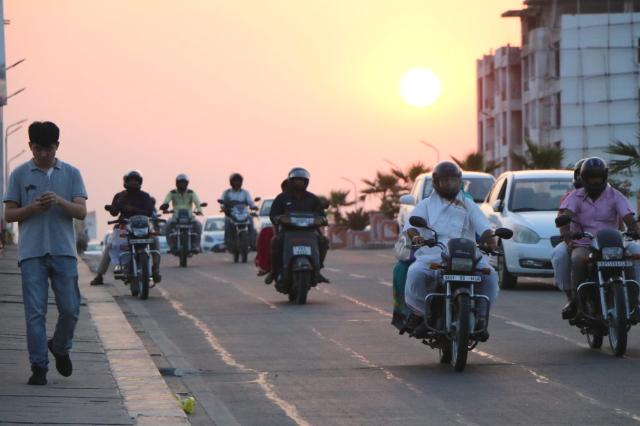licensePlate: (441, 271, 483, 283), (593, 261, 633, 271), (291, 245, 309, 257), (126, 239, 152, 247), (175, 224, 193, 231)
motorcycle: (385, 156, 507, 369), (552, 148, 638, 356), (256, 164, 339, 307), (88, 164, 153, 306), (214, 163, 251, 266), (162, 169, 198, 269)
withHelmet: (425, 161, 469, 201), (578, 154, 618, 195), (283, 165, 314, 197), (124, 167, 149, 193), (225, 172, 247, 190), (171, 176, 194, 193)
